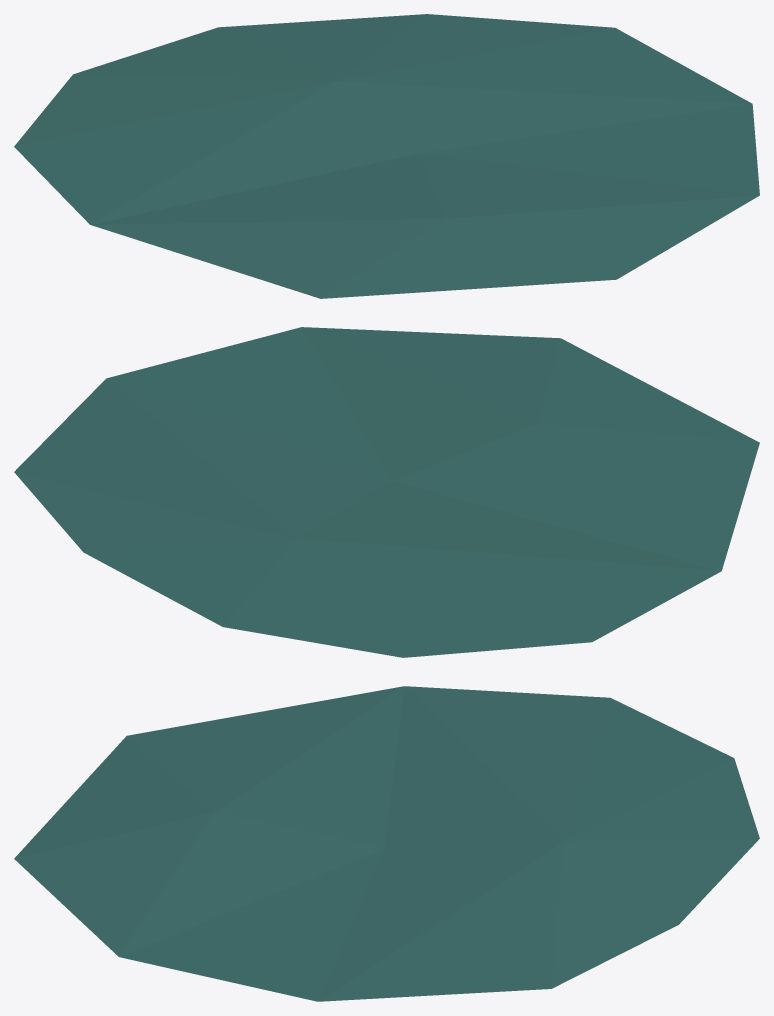
Rendered from SM_Env_Ground_Oasis_Water_01.glb.
3 views of the same model, one above another, from view 1: azimuth 30°, elevation 25°; view 2: azimuth 150°, elevation 25°; view 3: azimuth 270°, elevation 25° (orthographic). The views are drawn at different scales.
Visible parts, largest first — view 1: SM_Env_Ground_Oasis_Water_01; view 2: SM_Env_Ground_Oasis_Water_01; view 3: SM_Env_Ground_Oasis_Water_01.
Part boxes in pixels (x1=…): SM_Env_Ground_Oasis_Water_01: x1=14, y1=14, x2=759, y2=298; SM_Env_Ground_Oasis_Water_01: x1=14, y1=327, x2=759, y2=657; SM_Env_Ground_Oasis_Water_01: x1=14, y1=686, x2=759, y2=1001.
Bounding box in the file's own units: 12.14 × 0.164 × 12.13.
1 material, 1 textured.
